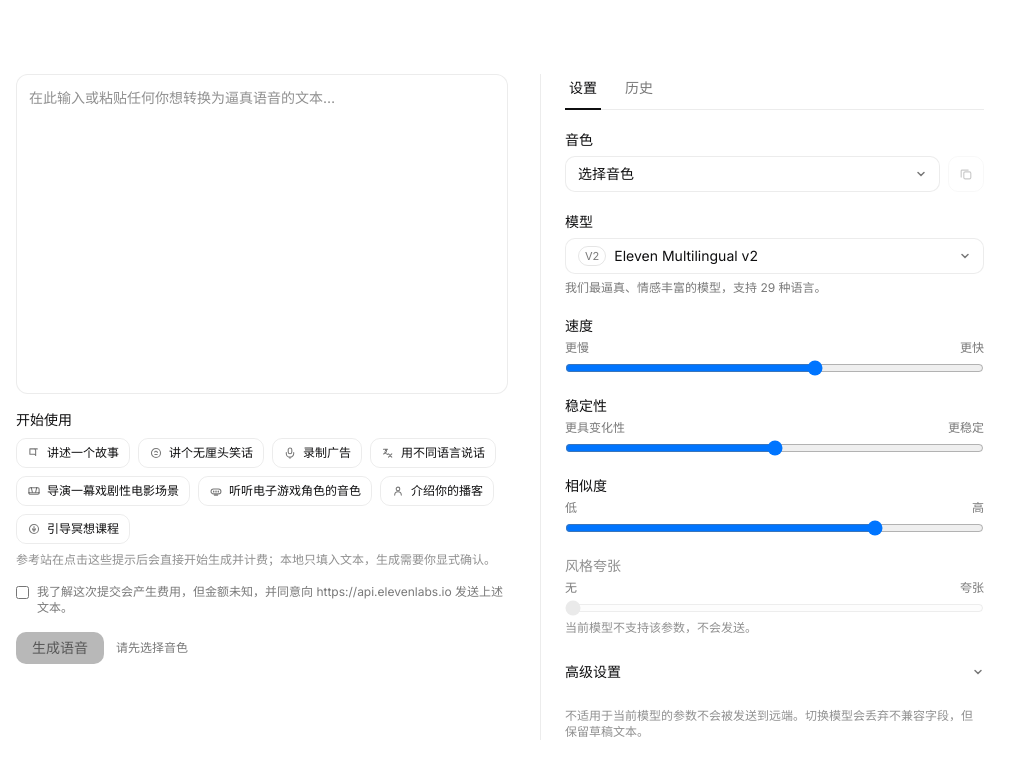
Test: defect regression markers › D-01 FIXED (2026-10-03, ZCode): TtsPage runs after create, and dedup never re-runs
Type "你好，世界" into the text box named "主文本区域" at (262, 234), box [16,74,508,394]
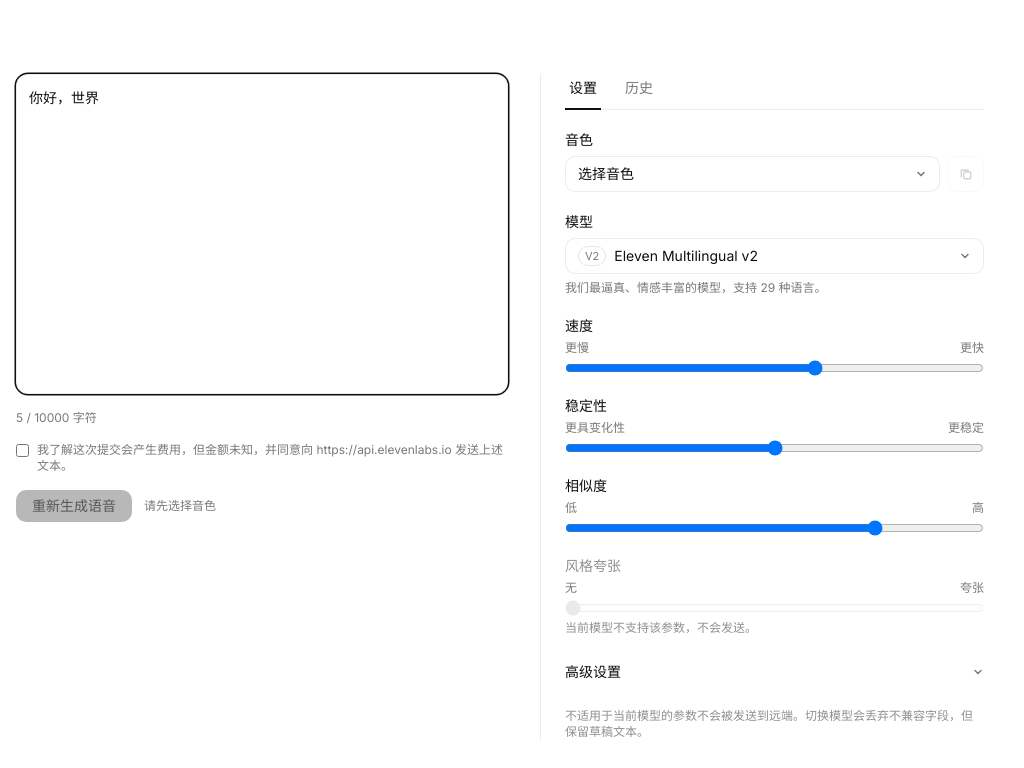
Click the button "选择音色" at (606, 174), box [565,156,940,192]
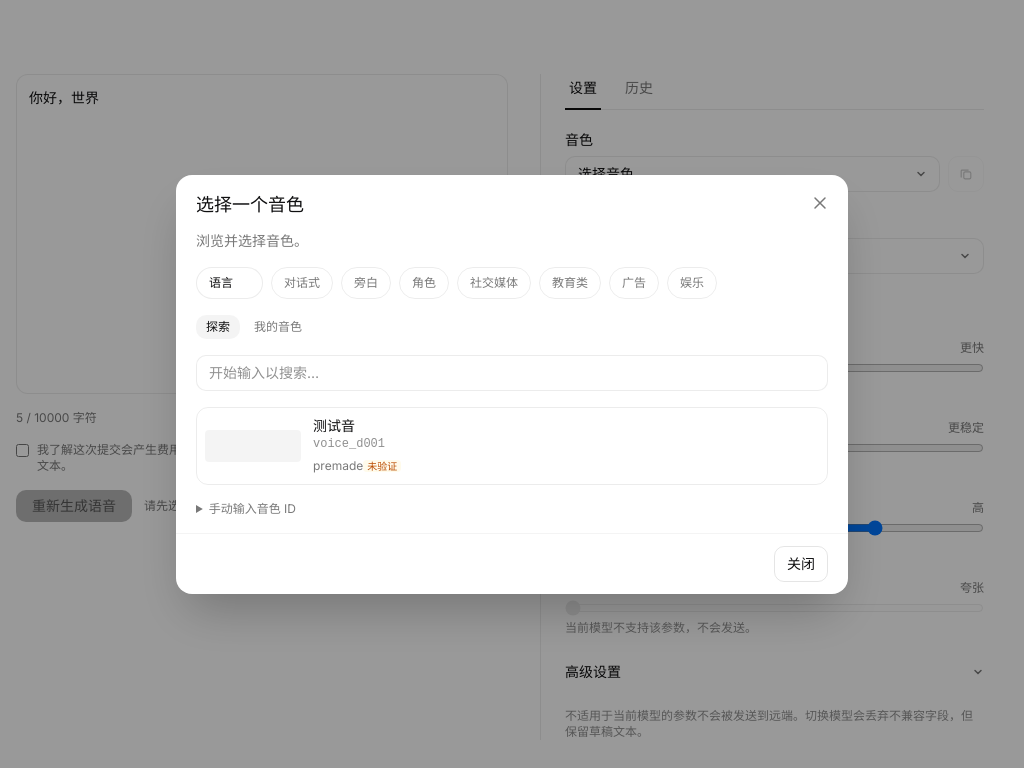
Click the radio button labelled "测试音" at (253, 446), box [196,406,828,484]
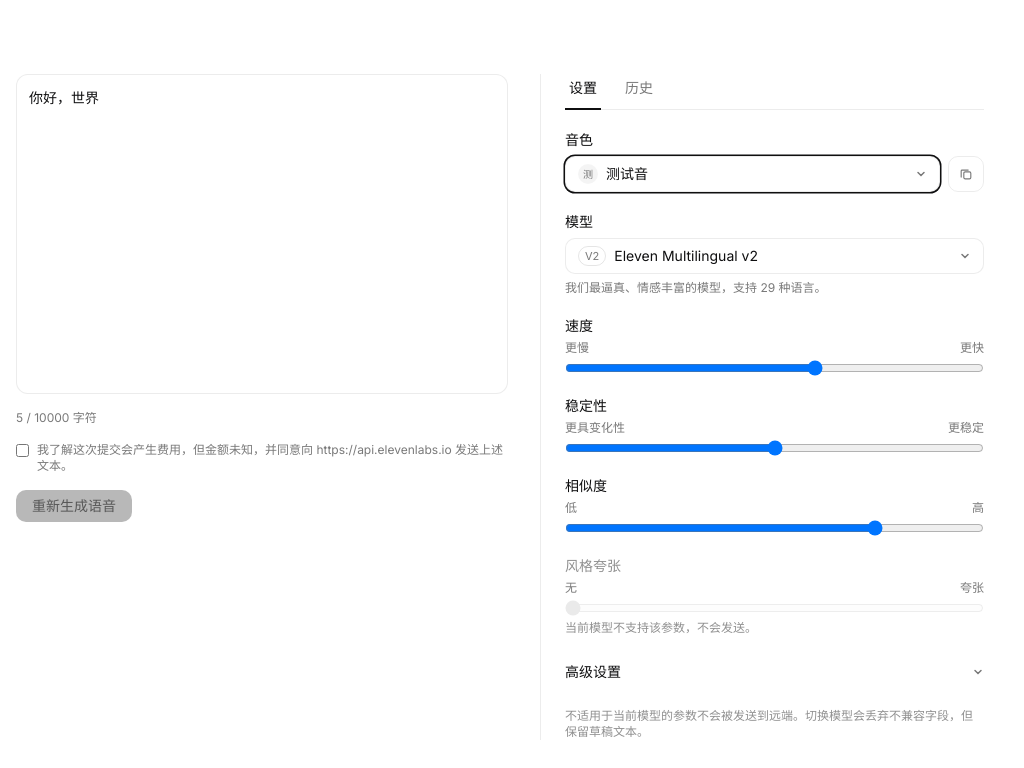
Click the checkbox labelled "我了解这次提交会产生费用，但金额未知，并同意向 https://api.elevenlabs.io 发送上述文本。" at (22, 450), box [16,444,29,457]
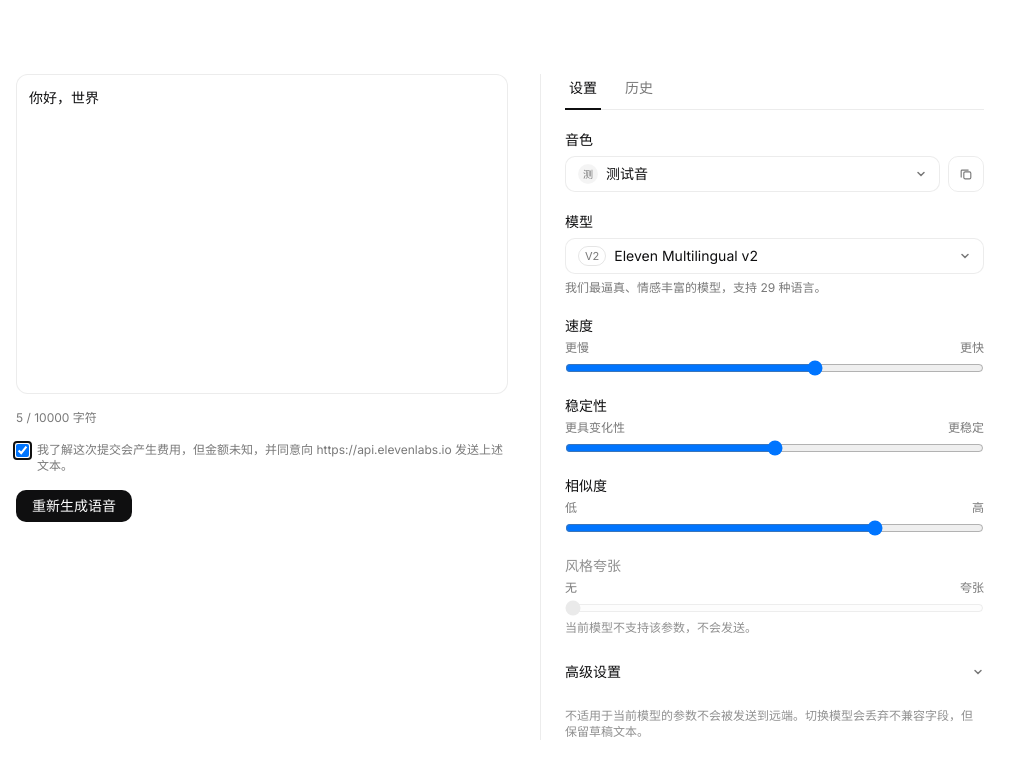
Click the button "重新生成语音" at (74, 506), box [16,490,132,522]
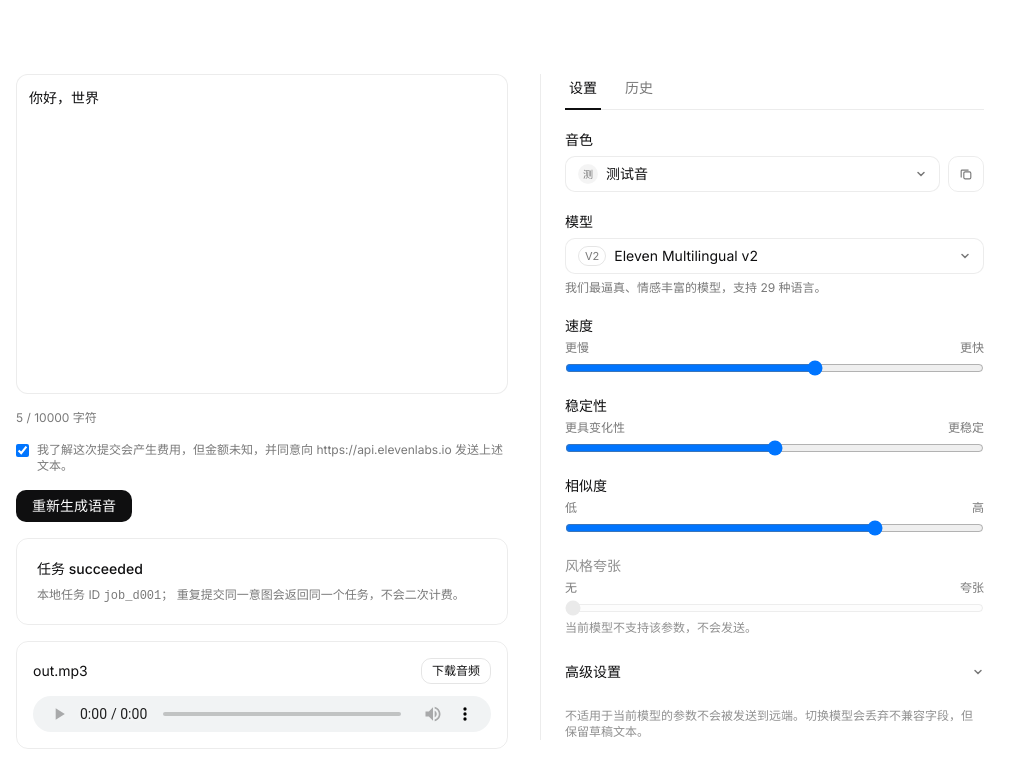
Click the button "重新生成语音" at (74, 506), box [16,490,132,522]
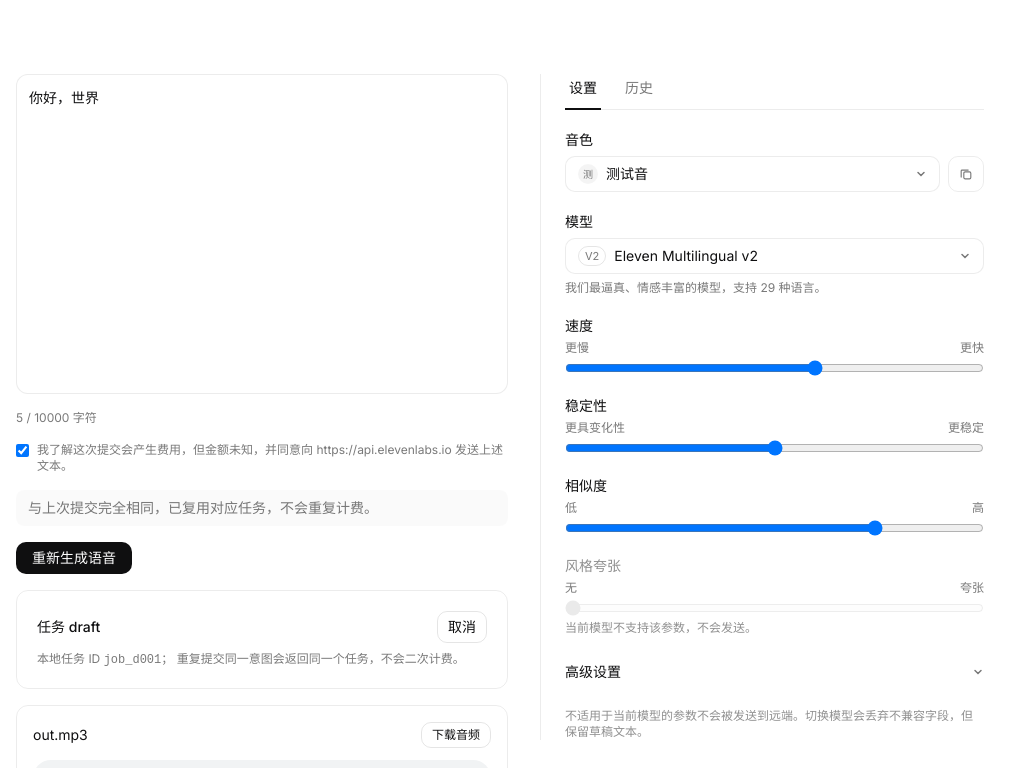
Result: the text "与上次提交完全相同，已复用对应任务，不会重复计费。" is shown at [16,490,508,526]
